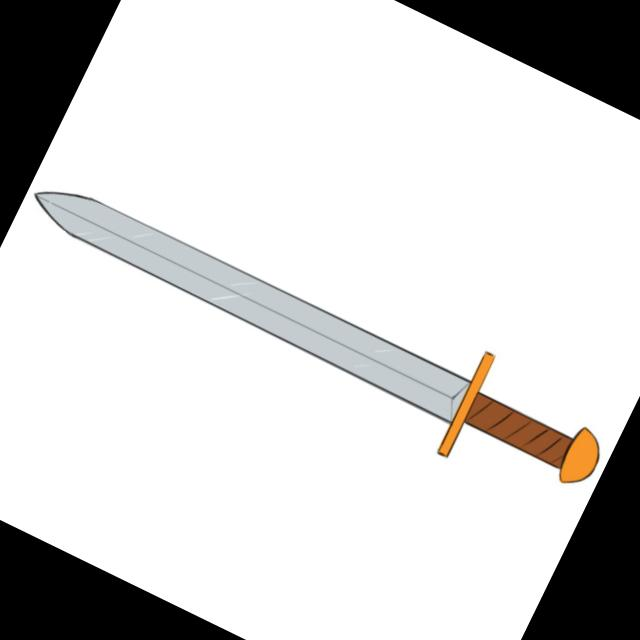Weapon: (4, 136, 623, 521)
